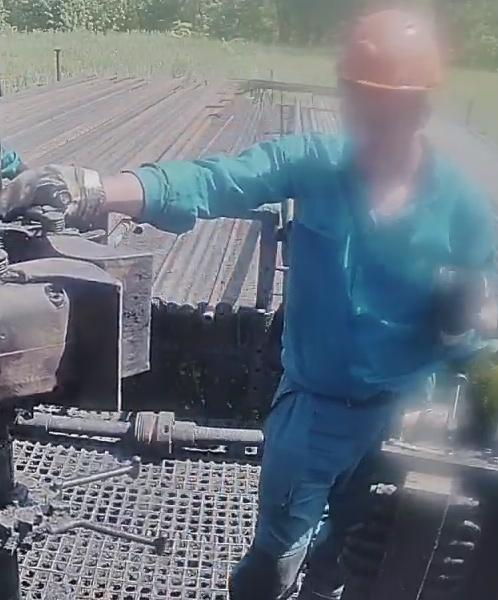gloves: (0, 161, 119, 232), (434, 257, 498, 354)
helmet: (335, 8, 445, 94)
vest: (277, 130, 498, 406)
